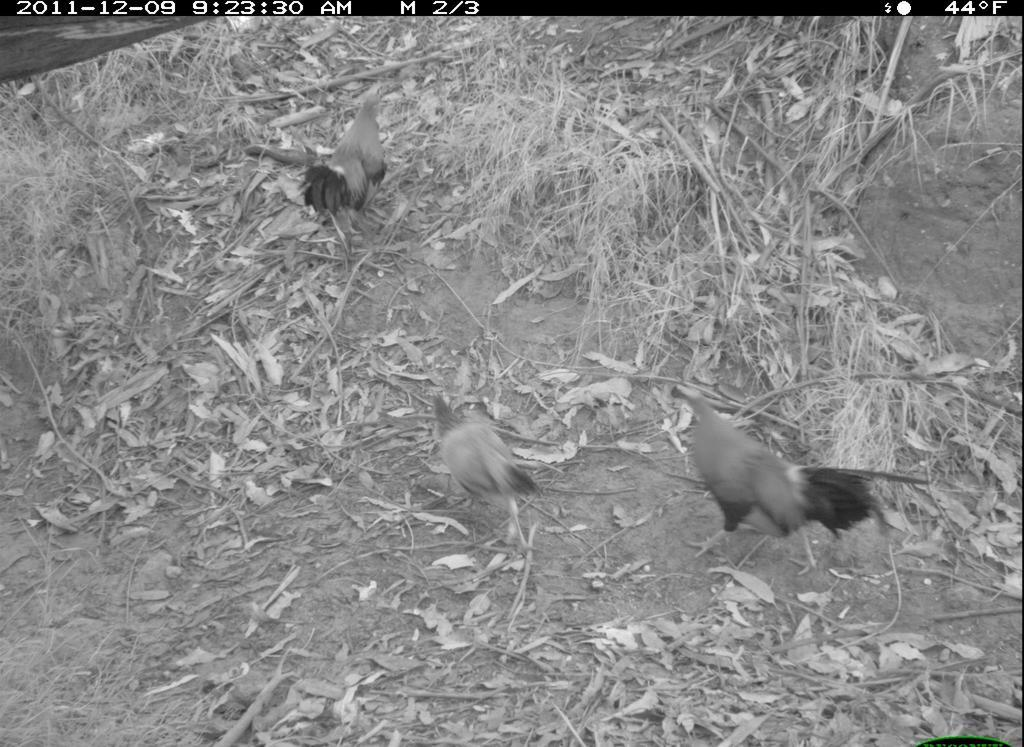bird: (660, 368, 936, 583), (422, 376, 556, 547), (299, 94, 395, 250)
